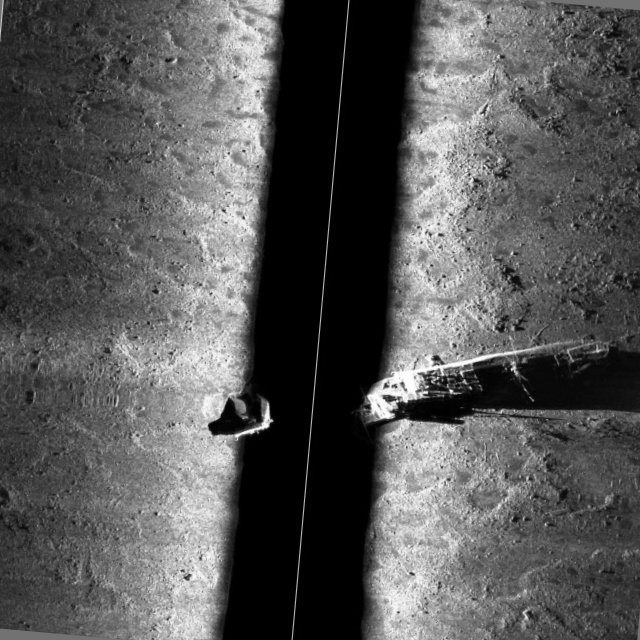Shipwreck: (139, 190, 620, 474)
